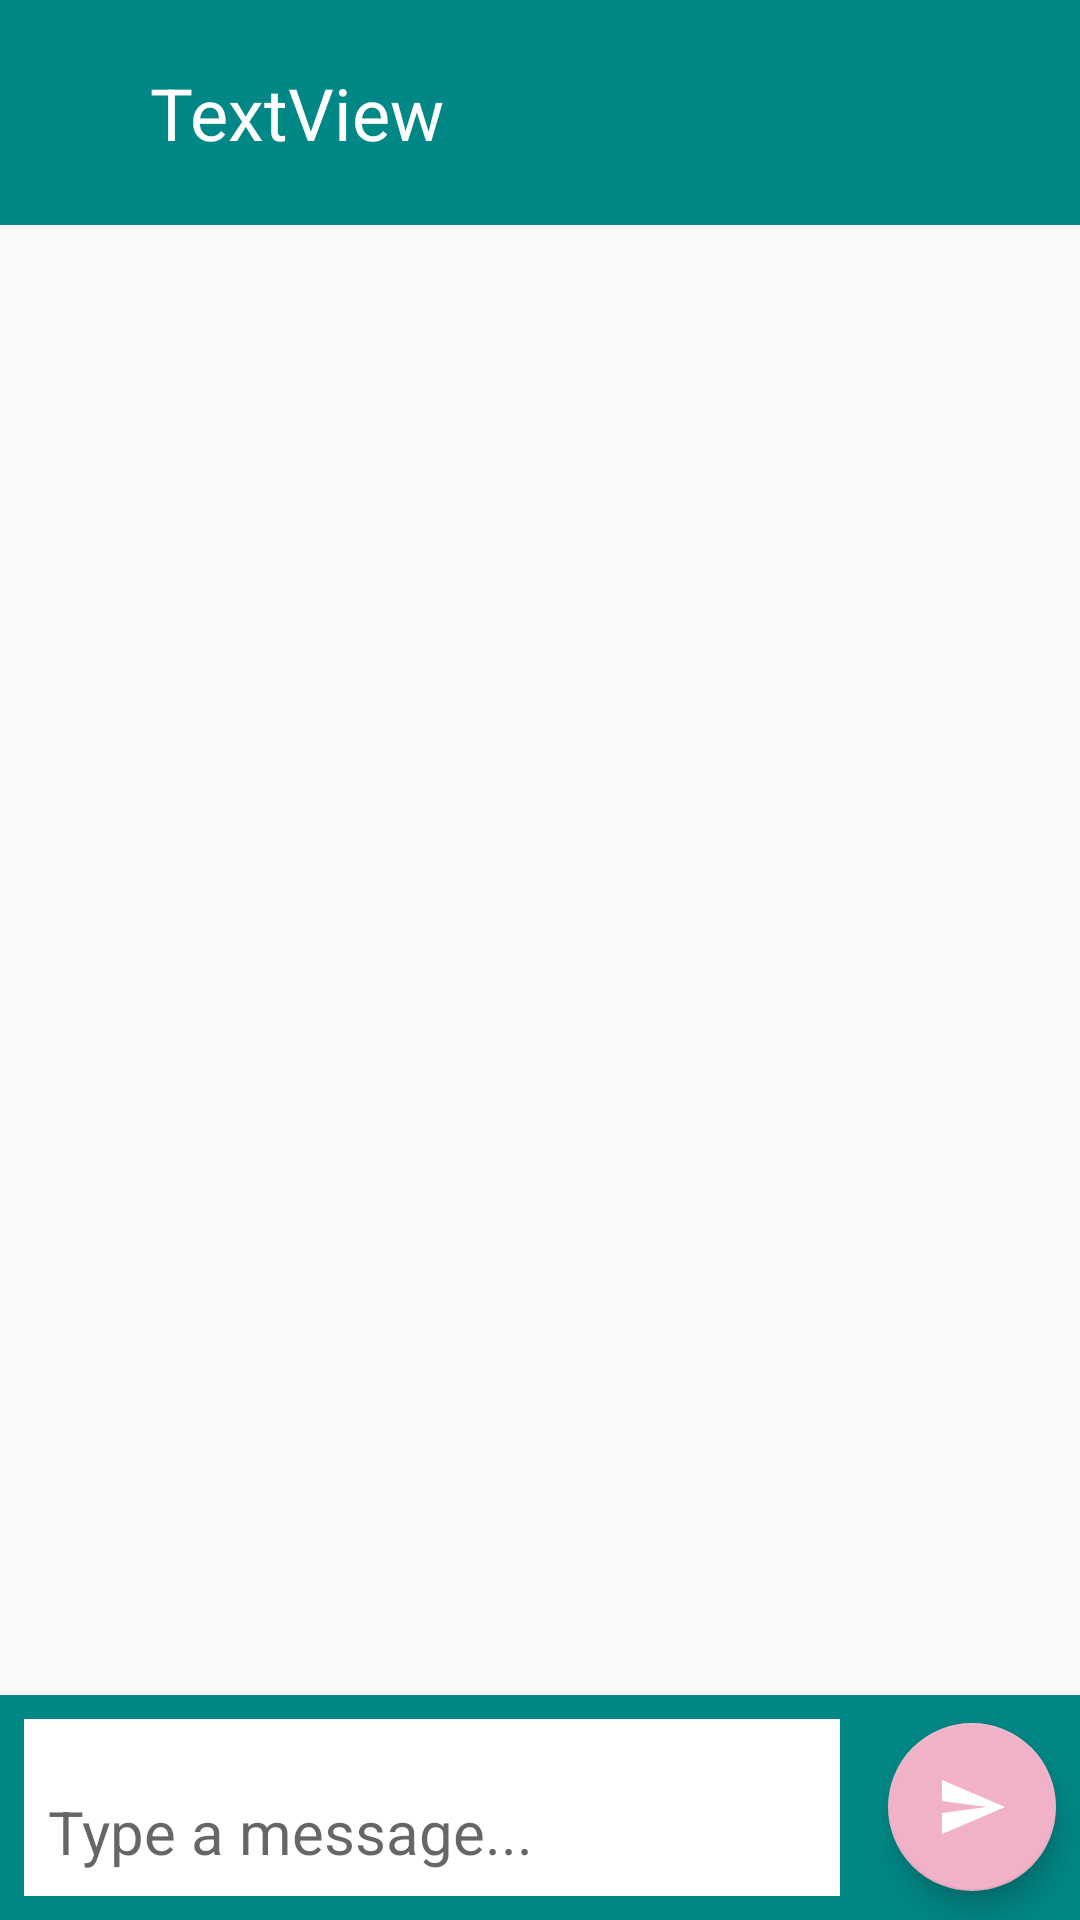

Screen size 1080x1920. Icon name, then its box in pixels as bbox(x1, y1, x2, y2):
send: bbox(888, 1723, 1056, 1891)
